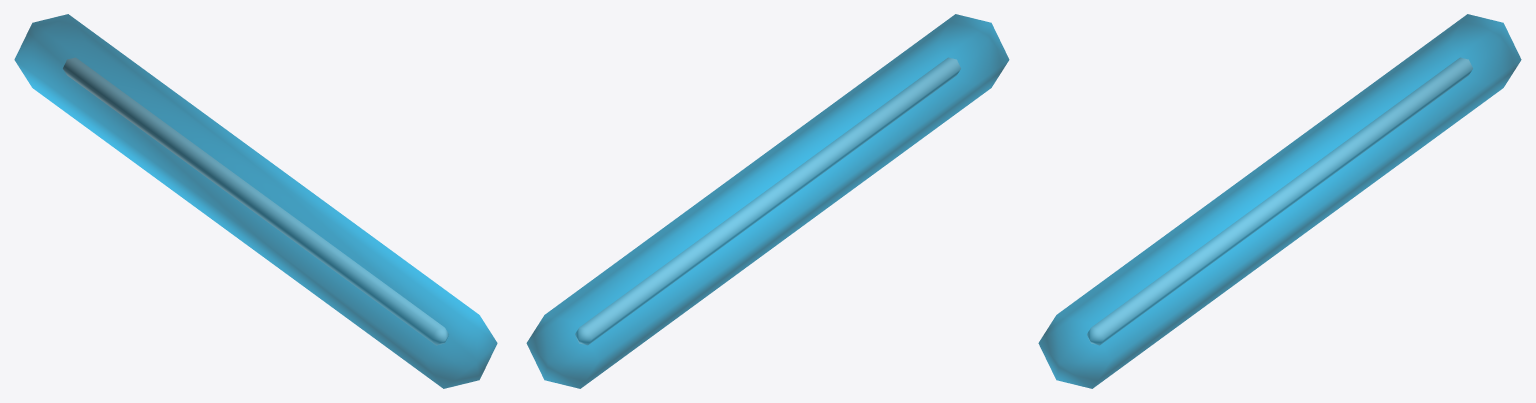
Rendered from light_blue_turret_laser_model.fbx.
3 renders of one model, left to right at view 1: azimuth 30°, elevation 25°; view 2: azimuth 150°, elevation 25°; view 3: azimuth 330°, elevation 25°, orthographic.
Visible parts, largest first — view 1: glow, bolt; view 2: glow, bolt; view 3: glow, bolt.
Part boxes in pixels (x1=…): glow: x1=14, y1=14, x2=497, y2=388; bolt: x1=63, y1=57, x2=448, y2=345; glow: x1=526, y1=14, x2=1009, y2=388; bolt: x1=575, y1=57, x2=960, y2=345; glow: x1=1038, y1=14, x2=1521, y2=388; bolt: x1=1087, y1=57, x2=1472, y2=345.
Bounding box in the file's own units: 7.56 × 6.55 × 80.08.
